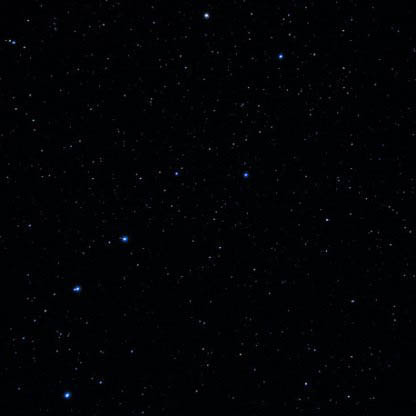Ursa Major: (113, 224, 140, 256), (195, 5, 225, 32), (56, 381, 79, 406), (69, 280, 96, 301), (164, 163, 186, 188), (232, 163, 255, 186), (274, 41, 290, 69)
